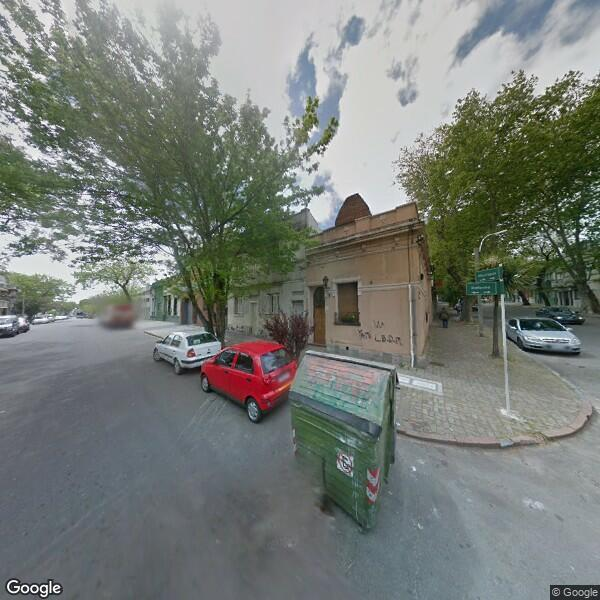Trash: (286, 348, 402, 530)
